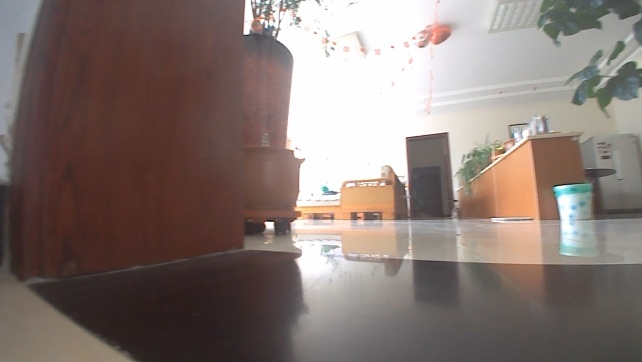refrigerator1: (578, 131, 641, 215)
